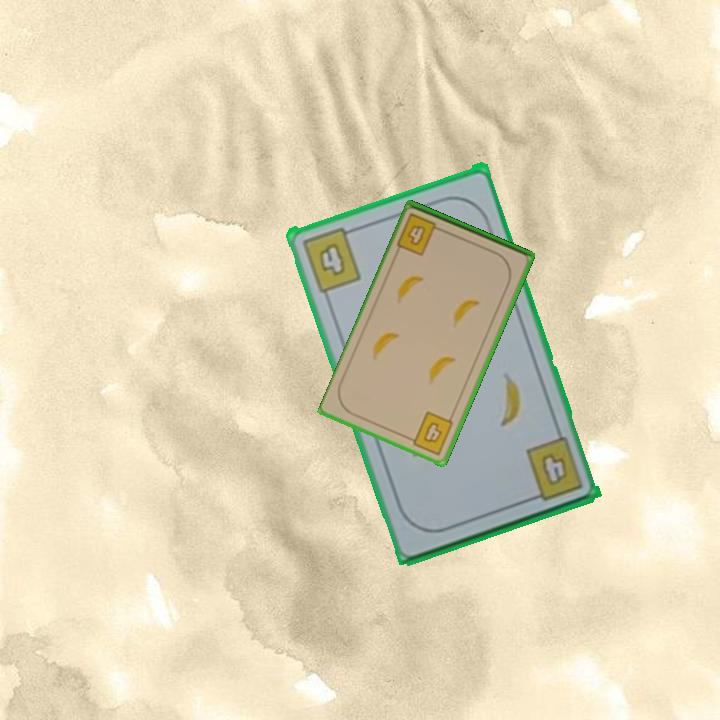4b: (298, 223, 364, 295), (522, 433, 585, 505), (393, 209, 447, 259), (404, 408, 456, 458)
